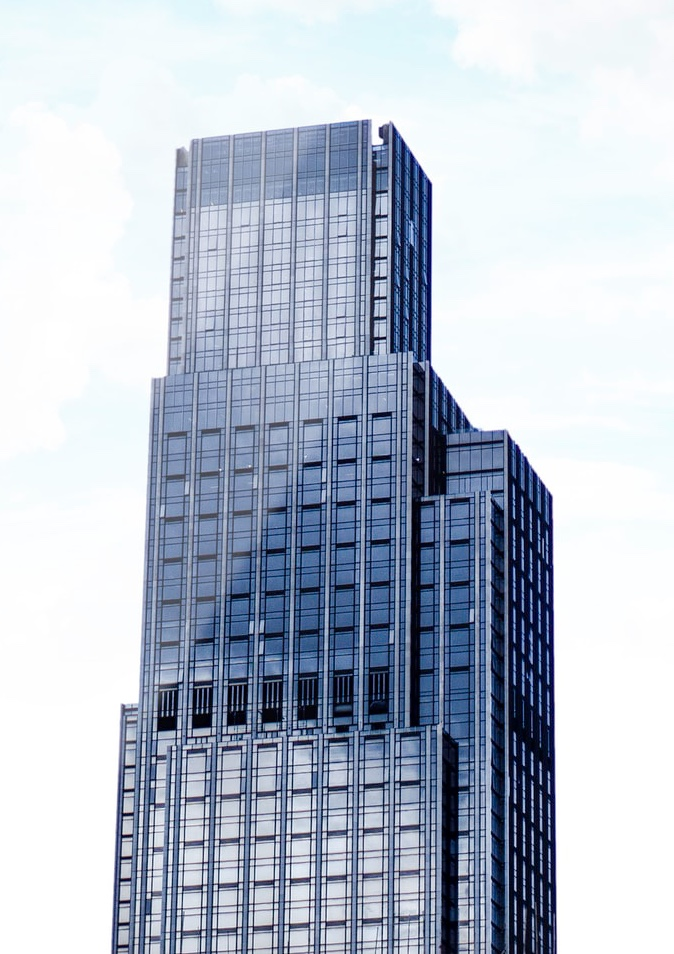Sky Building: (117, 118, 567, 942)
